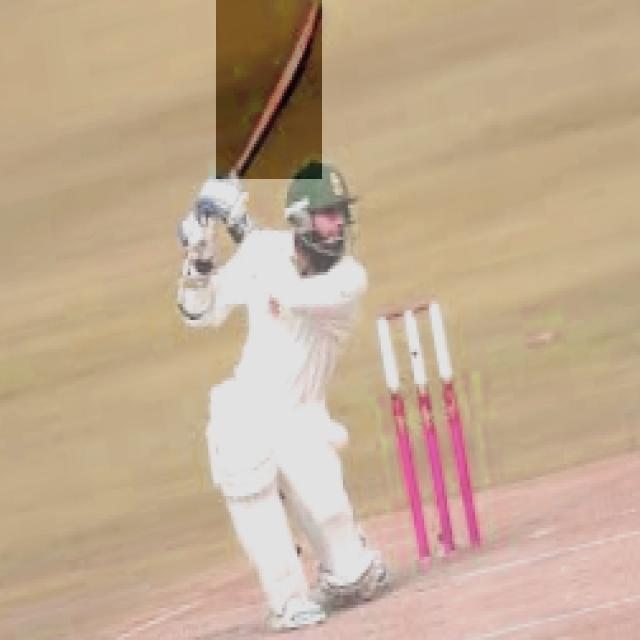bat: (215, 0, 320, 181)
